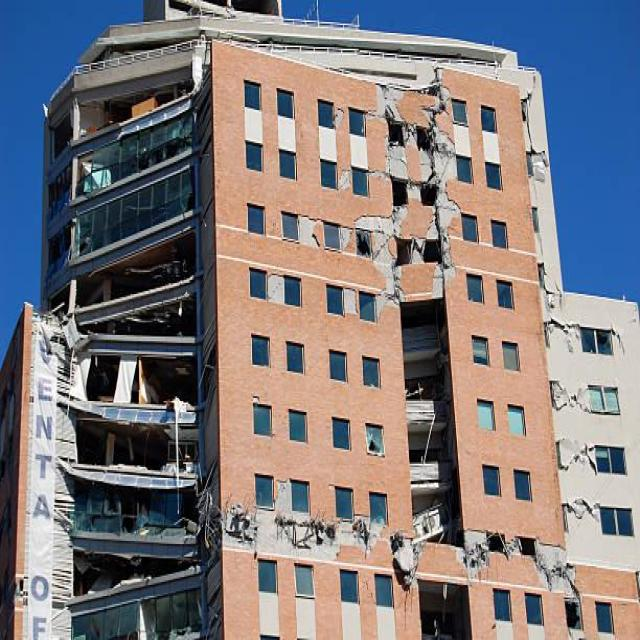damage: (51, 255, 218, 615), (353, 82, 468, 323), (215, 477, 398, 603), (426, 522, 586, 609), (284, 204, 328, 264), (260, 267, 295, 326), (340, 280, 359, 328), (336, 216, 356, 260), (337, 164, 353, 203)
